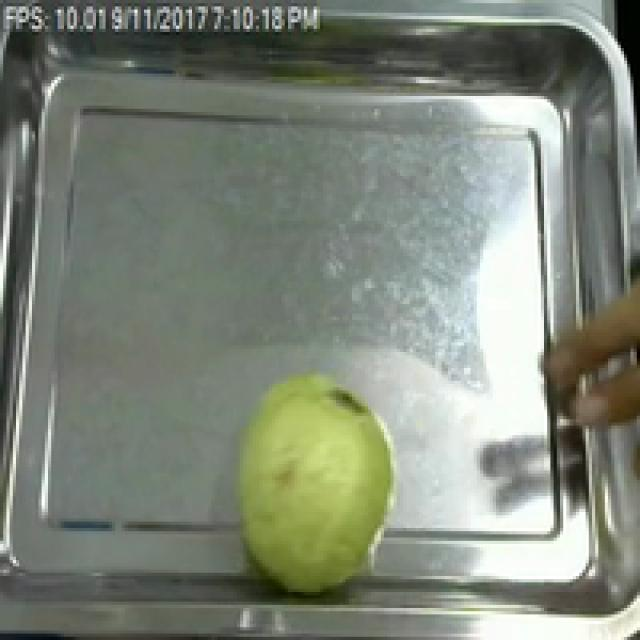Fruit: (220, 368, 410, 602)
